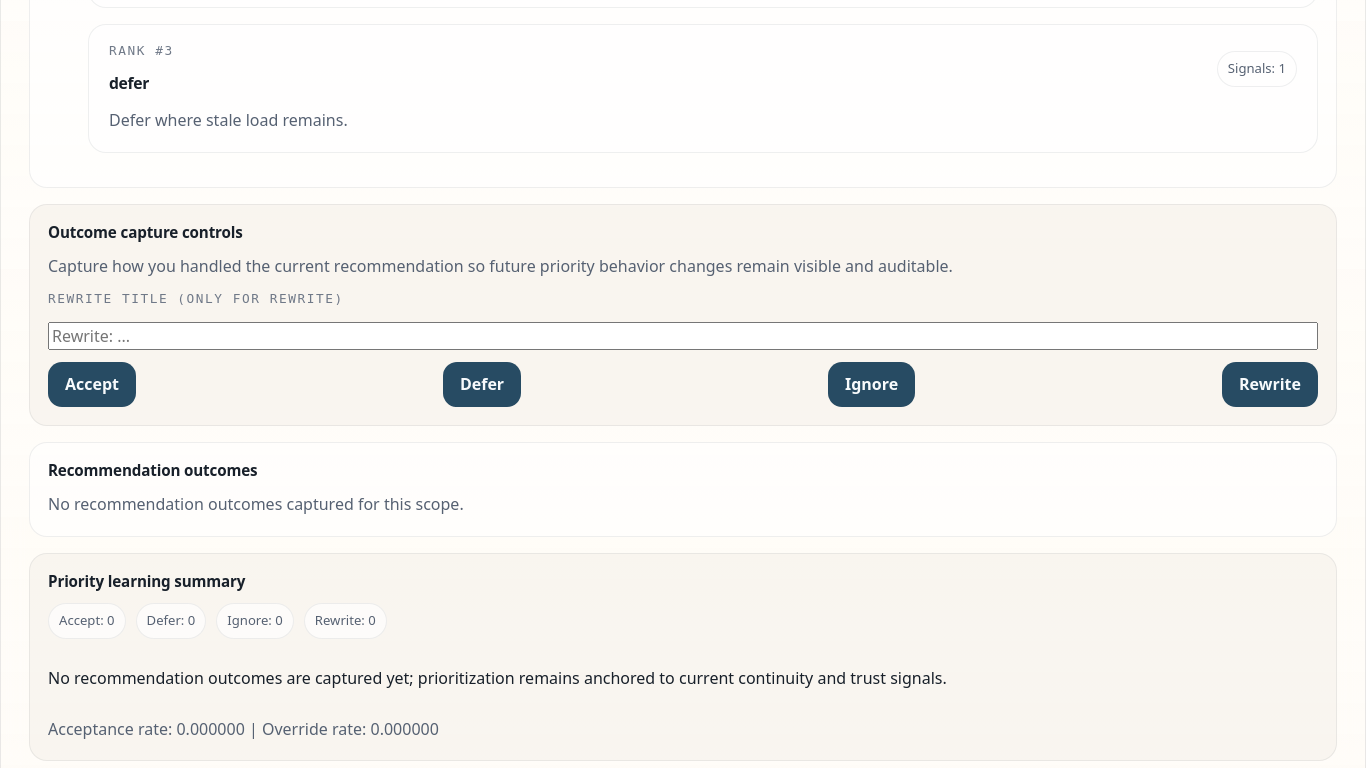
Scenario: ChiefOfStaffWeeklyReviewPanel › captures accept outcomes when live mode is ready
This screenshot has width=1366, height=768.
(page scrolled)
Click the button "Accept". click: coordinates (92, 385)
box: x1=48 y1=362 x2=136 y2=407
(page scrolled)
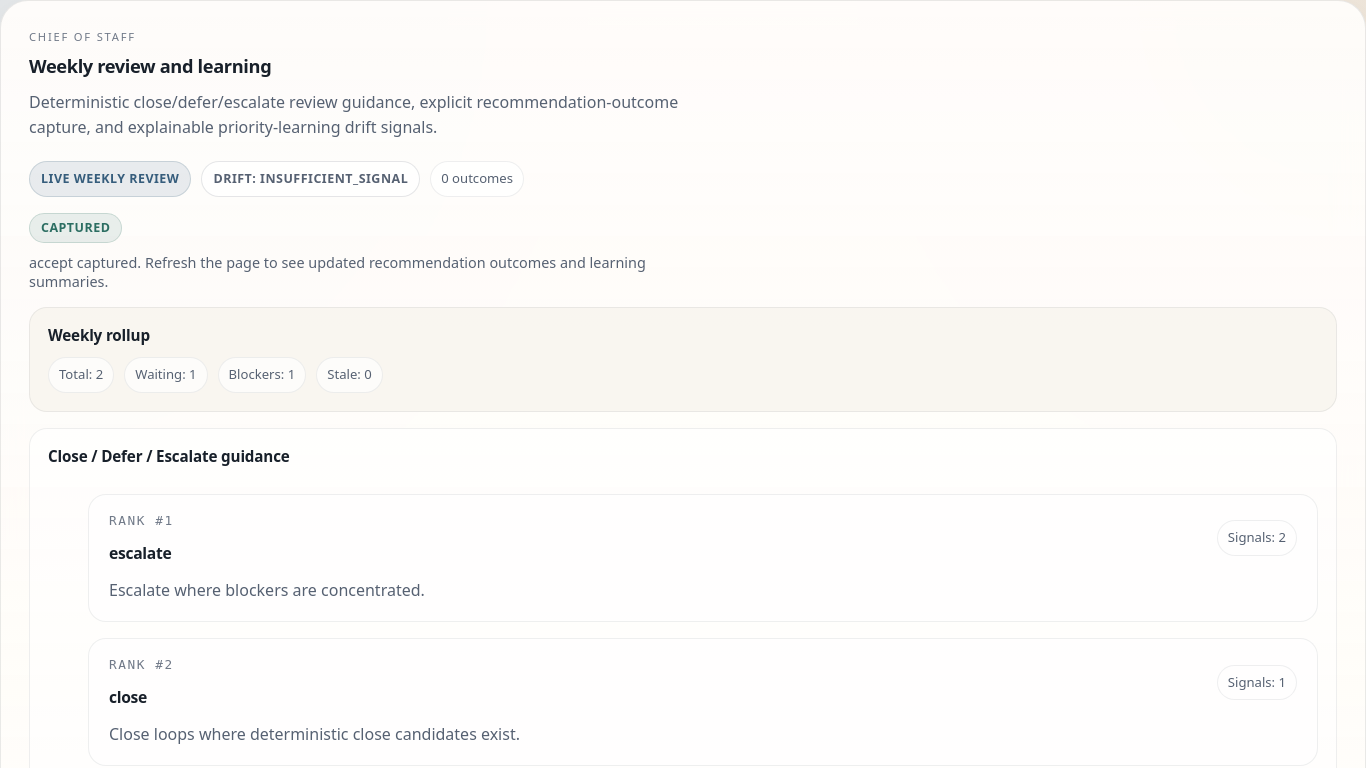
Expected: the text "accept captured. Refresh the page to see updated recommendation outcomes and learning summaries." is shown, x1=29 y1=253 x2=646 y2=291
